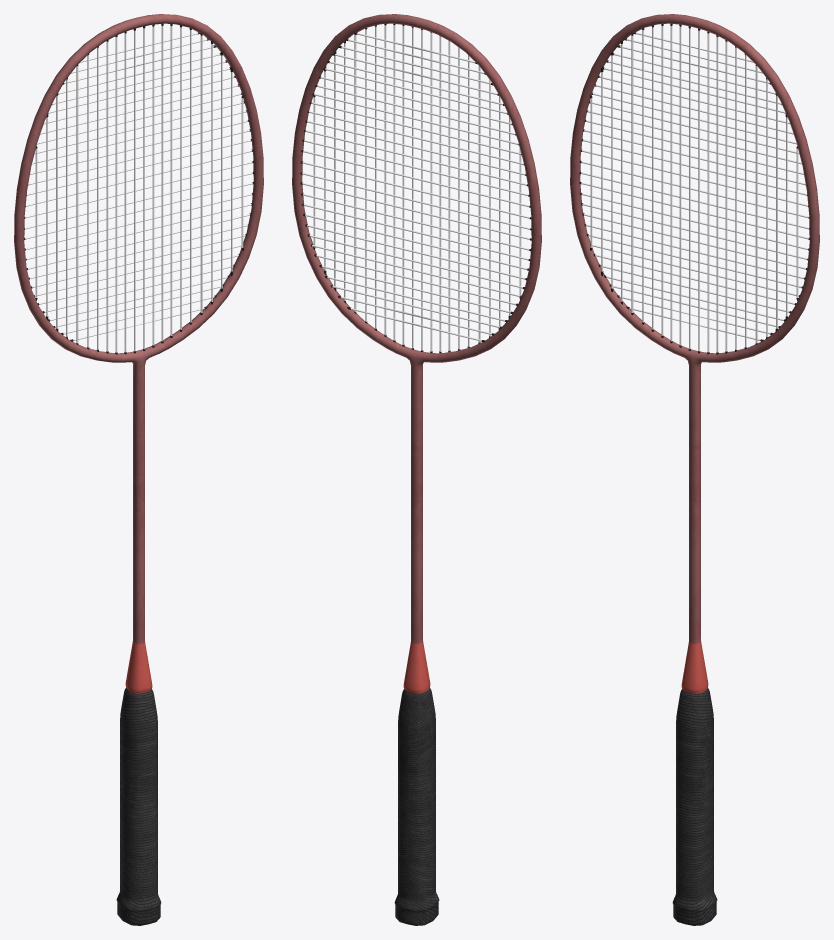
Rendered from Badminton Racket.fbx.
3 renders of one model, left to right at view 1: azimuth 30°, elevation 25°; view 2: azimuth 150°, elevation 25°; view 3: azimuth 330°, elevation 25°, orthographic.
Parts seen in each view (by area): view 1: Badminton Racket; view 2: Badminton Racket; view 3: Badminton Racket.
Boxes of the visible parts, x1=… form: Badminton Racket: x1=14, y1=14, x2=263, y2=925; Badminton Racket: x1=292, y1=14, x2=541, y2=925; Badminton Racket: x1=570, y1=14, x2=819, y2=925.
Bounding box in the file's own units: 306 × 1063 × 45.22.
